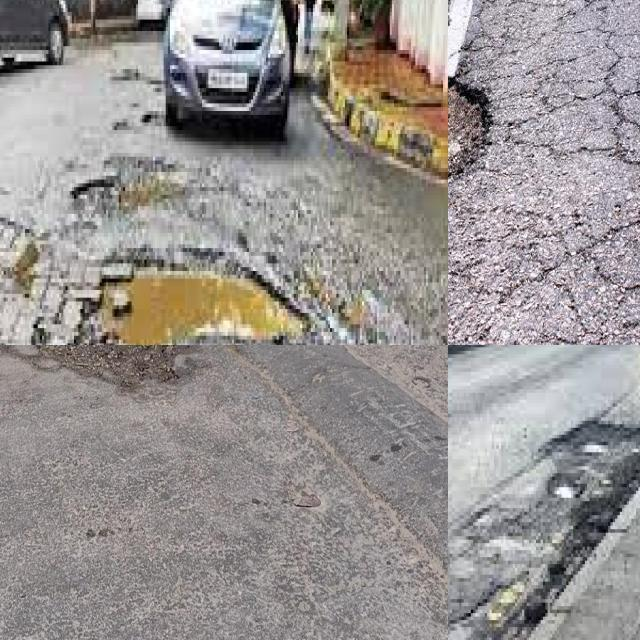Pothole: (95, 271, 311, 345), (545, 421, 640, 515), (39, 345, 178, 385), (68, 168, 185, 214), (448, 78, 492, 180)
